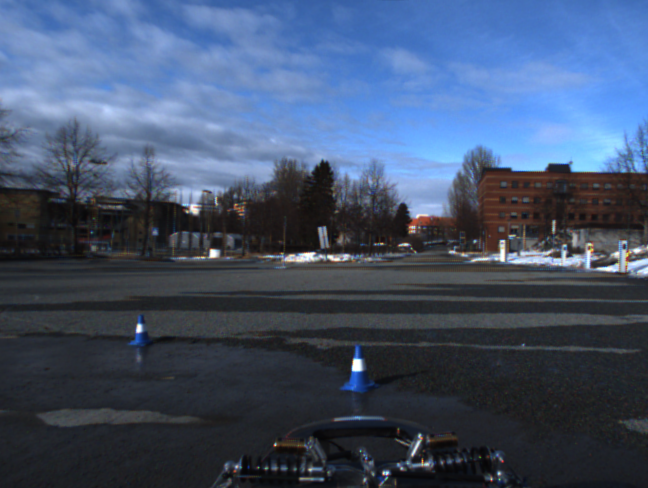cone-small-blue: (339, 344, 381, 393), (127, 315, 153, 347)
